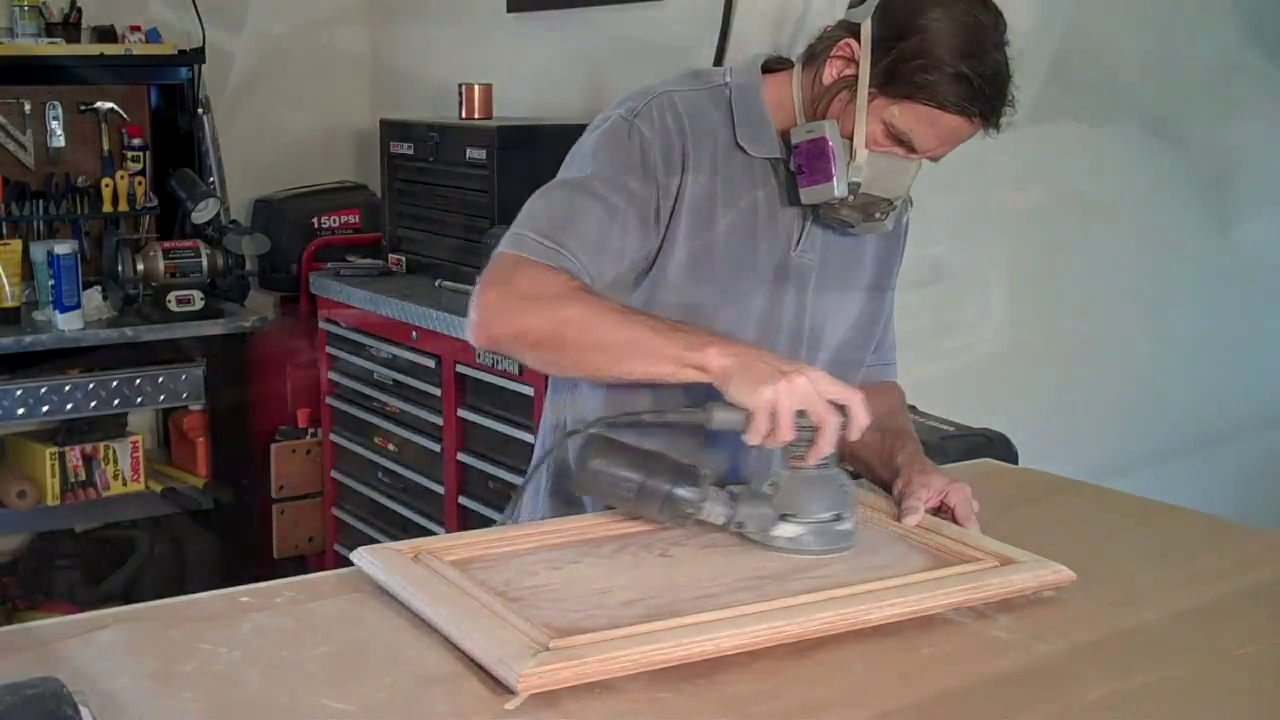person: (466, 1, 1018, 533)
